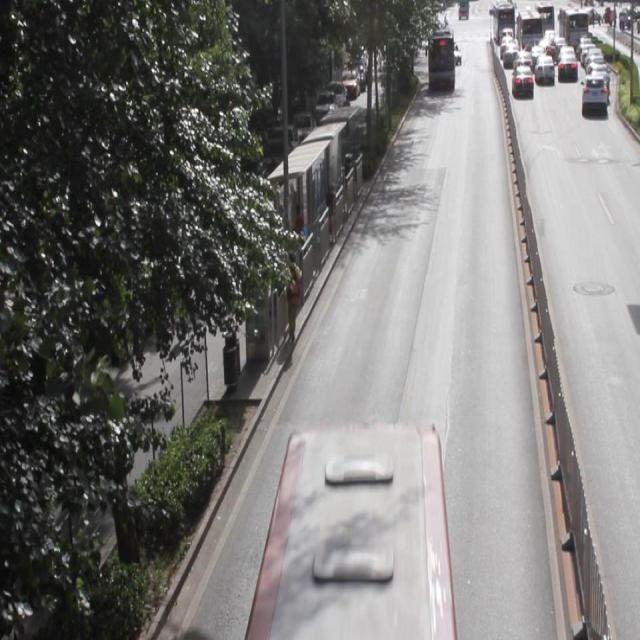van: (250, 424, 450, 640)
